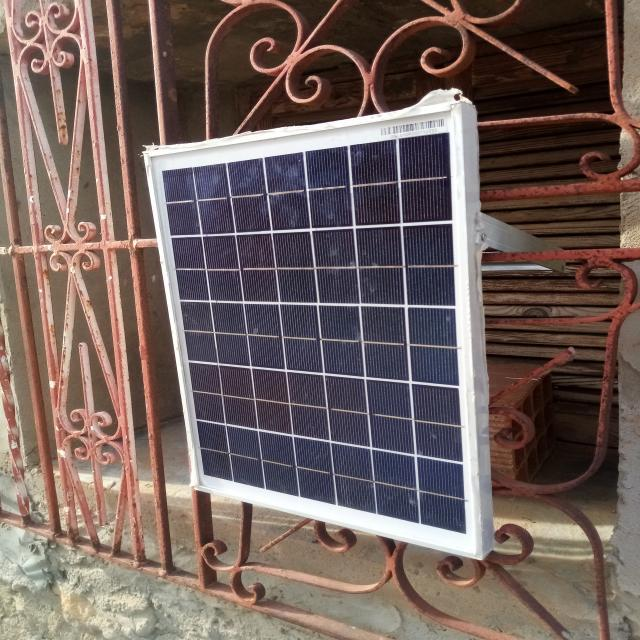no faulty: (146, 105, 480, 557)
